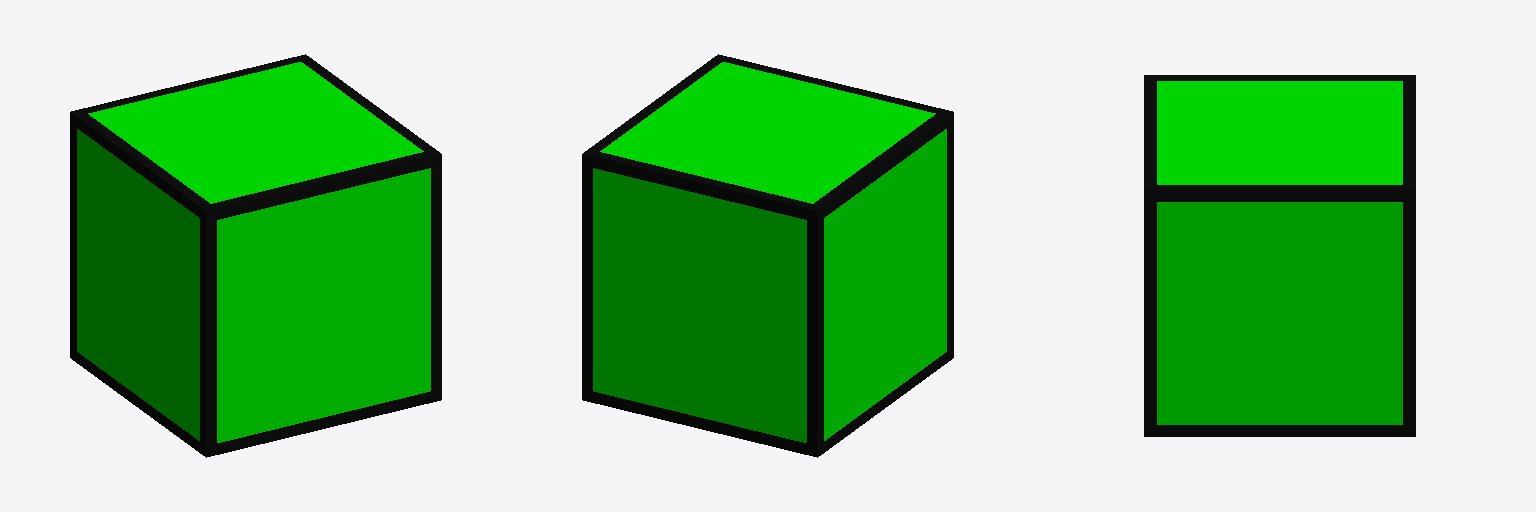
3 renders of one model, left to right at view 1: azimuth 30°, elevation 25°; view 2: azimuth 150°, elevation 25°; view 3: azimuth 270°, elevation 25°, orthographic.
Parts seen in each view (by area): view 1: object 1; view 2: object 1; view 3: object 1.
Part boxes in pixels (x1,y1,x2,y2): object 1: (70,54,441,457); object 1: (582,54,953,457); object 1: (1144,75,1415,436).
Size of the model in its own units: 6.4 by 6.4 by 6.4.
Materials: 1 (1 with a texture image).